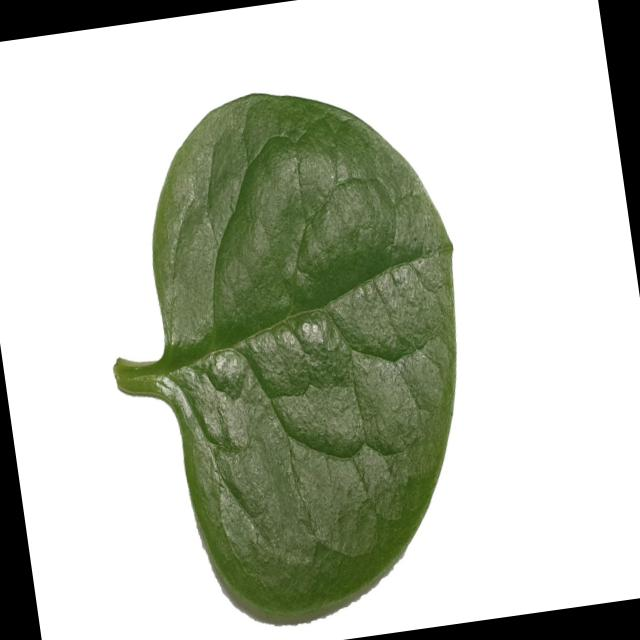Medicinal-Basale: (79, 65, 502, 635)
